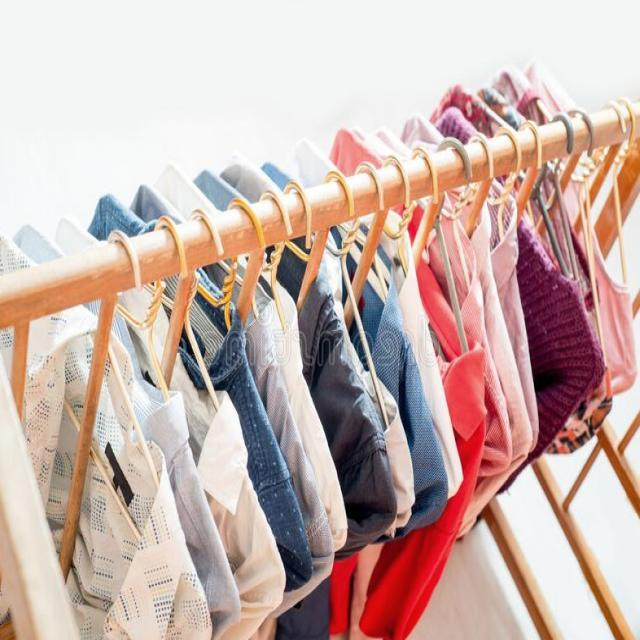clothes: (54, 249, 616, 640)
